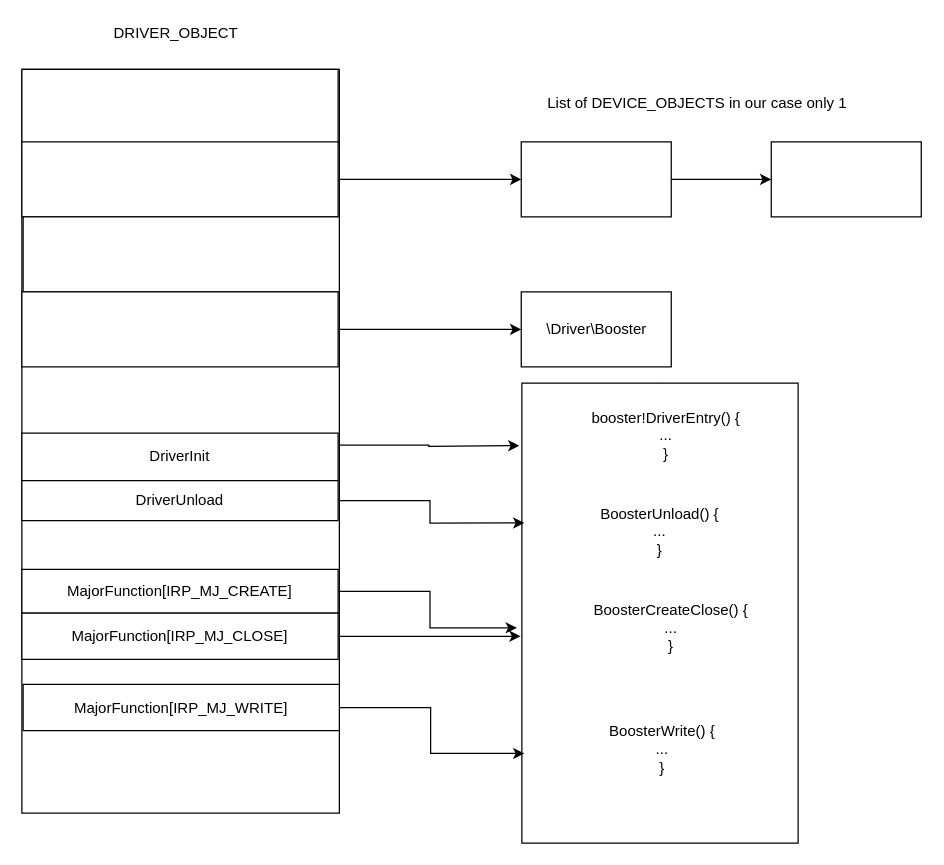
Some shapes in this 944 by 865 pixel diagram are drawn without their labels. The box of each missing label's shape, as (x1, y1, x2, y2) in pixels:
DeviceObject: (21, 141, 338, 217)
DriverName: (21, 291, 338, 367)
